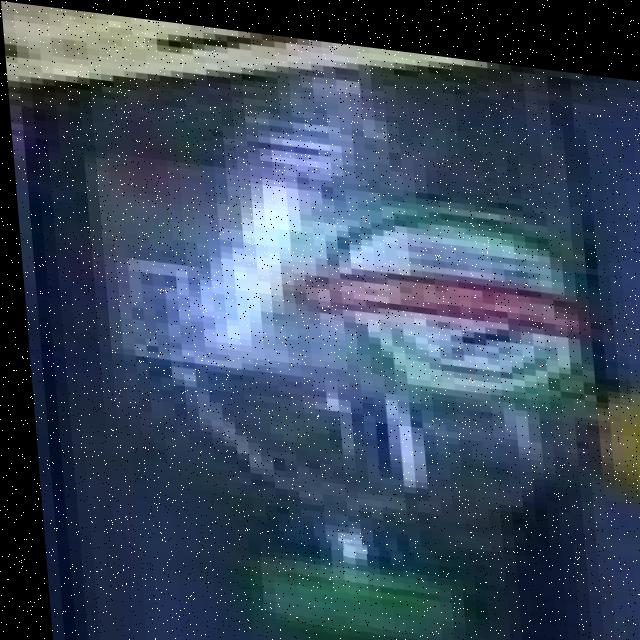plasticbottle: (208, 514, 500, 640)
